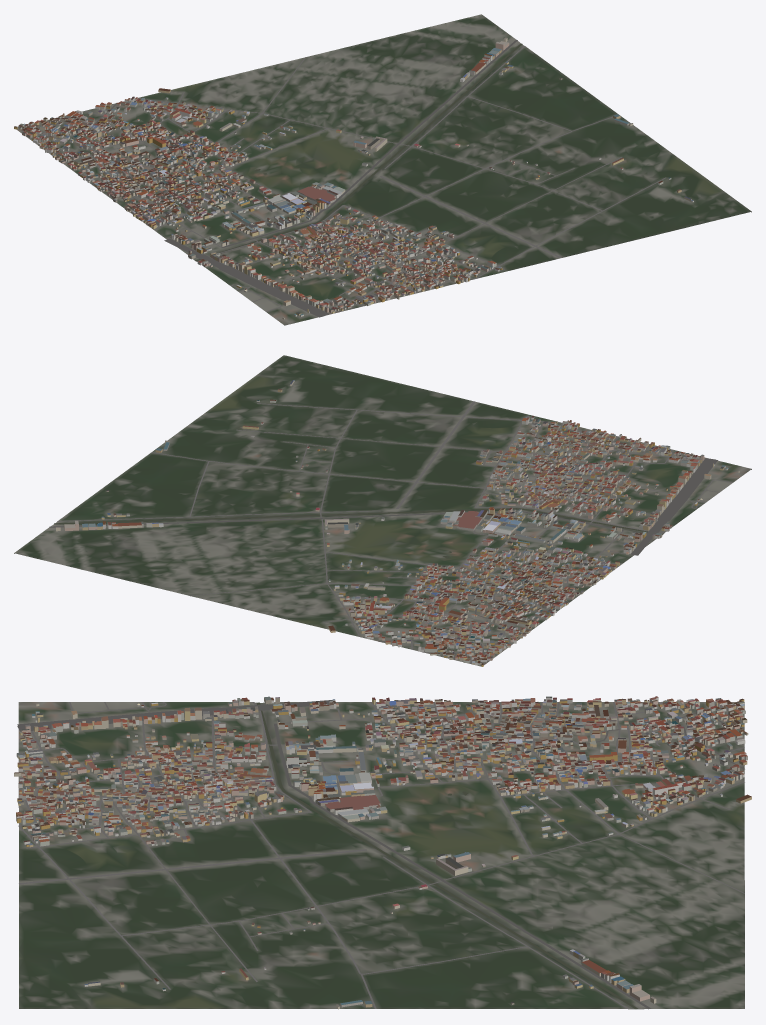
3 renders of one model, top to bottom at view 1: azimuth 30°, elevation 25°; view 2: azimuth 150°, elevation 25°; view 3: azimuth 270°, elevation 25°, orthographic. The views are drawn at different scales.
Parts seen in each view (by area): view 1: ground, buildings, roads, water; view 2: ground, buildings, roads, water; view 3: ground, buildings, roads, water.
Boxes of the visible parts, bbox=[...] form: ground: bbox=[16, 14, 751, 325]; buildings: bbox=[14, 37, 693, 319]; roads: bbox=[25, 40, 666, 317]; water: bbox=[195, 43, 522, 261]; ground: bbox=[14, 355, 751, 666]; buildings: bbox=[56, 380, 739, 666]; roads: bbox=[49, 401, 732, 663]; water: bbox=[54, 508, 662, 557]; ground: bbox=[18, 702, 744, 1009]; buildings: bbox=[14, 696, 751, 1009]; roads: bbox=[17, 700, 744, 1009]; water: bbox=[256, 702, 637, 1009].
Size of the model in its own units: 1413 by 25.77 by 1425.
